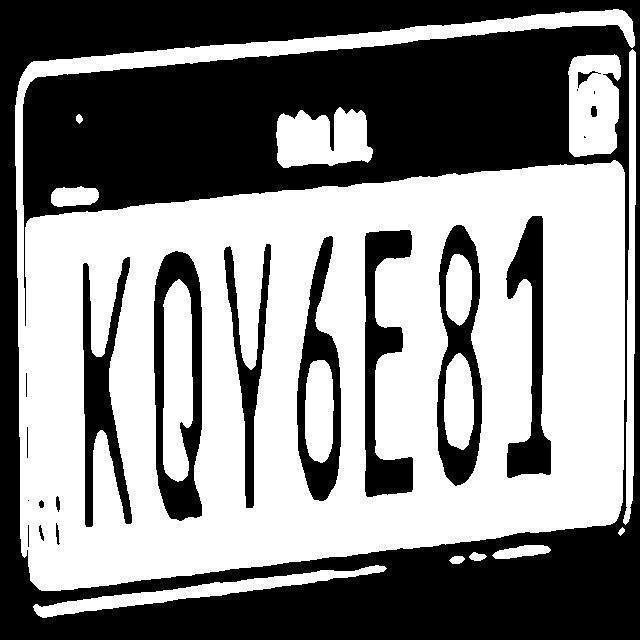1: (498, 207, 552, 481)
6: (292, 230, 348, 506)
8: (431, 210, 486, 490)
e: (356, 224, 418, 506)
k: (78, 251, 136, 528)
q: (148, 249, 209, 526)
y: (217, 240, 274, 514)
